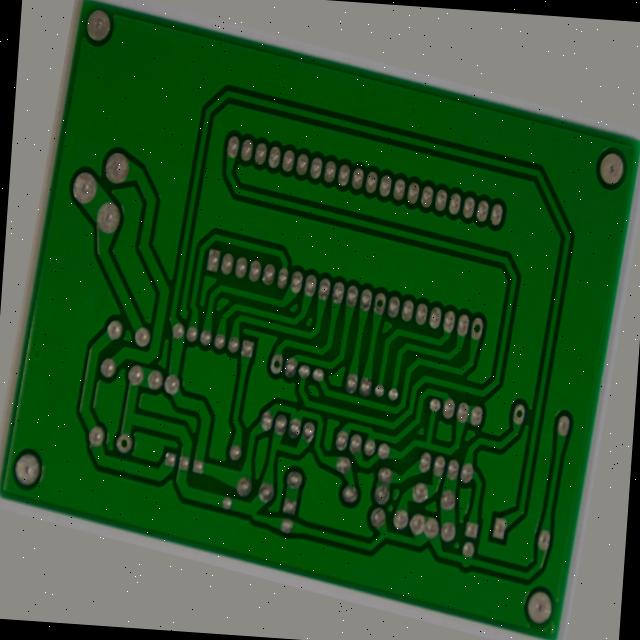missing_hole: (479, 276, 502, 310), (533, 371, 556, 399), (110, 498, 130, 527), (268, 368, 287, 396), (374, 273, 392, 301)
